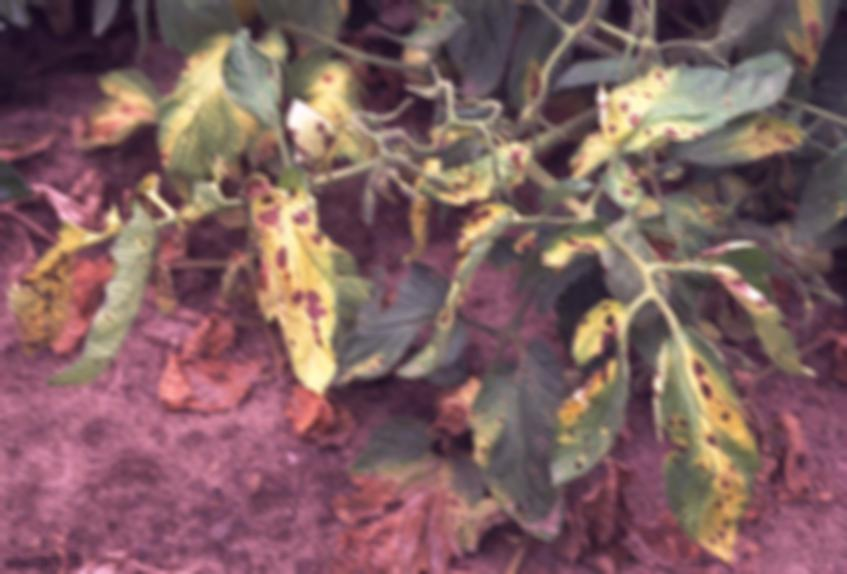Tomato Early blight leaf: (561, 49, 807, 170), (230, 167, 337, 390), (637, 329, 743, 538), (541, 302, 638, 488), (8, 219, 95, 368)
